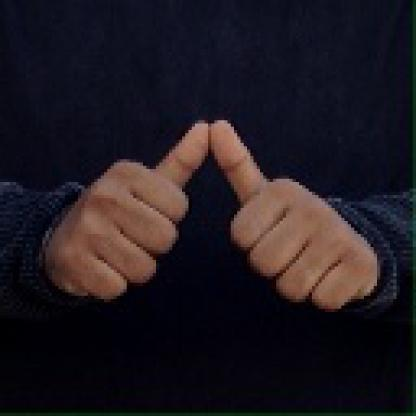A: (51, 110, 374, 323)
